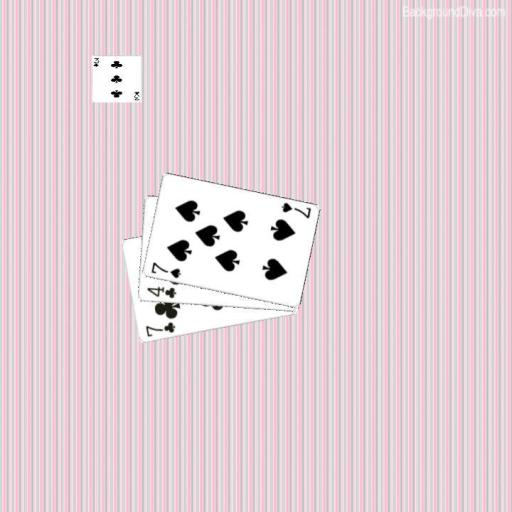4C: (144, 284, 177, 299)
7C: (143, 320, 177, 339)
7S: (147, 260, 182, 280), (278, 200, 312, 220)
